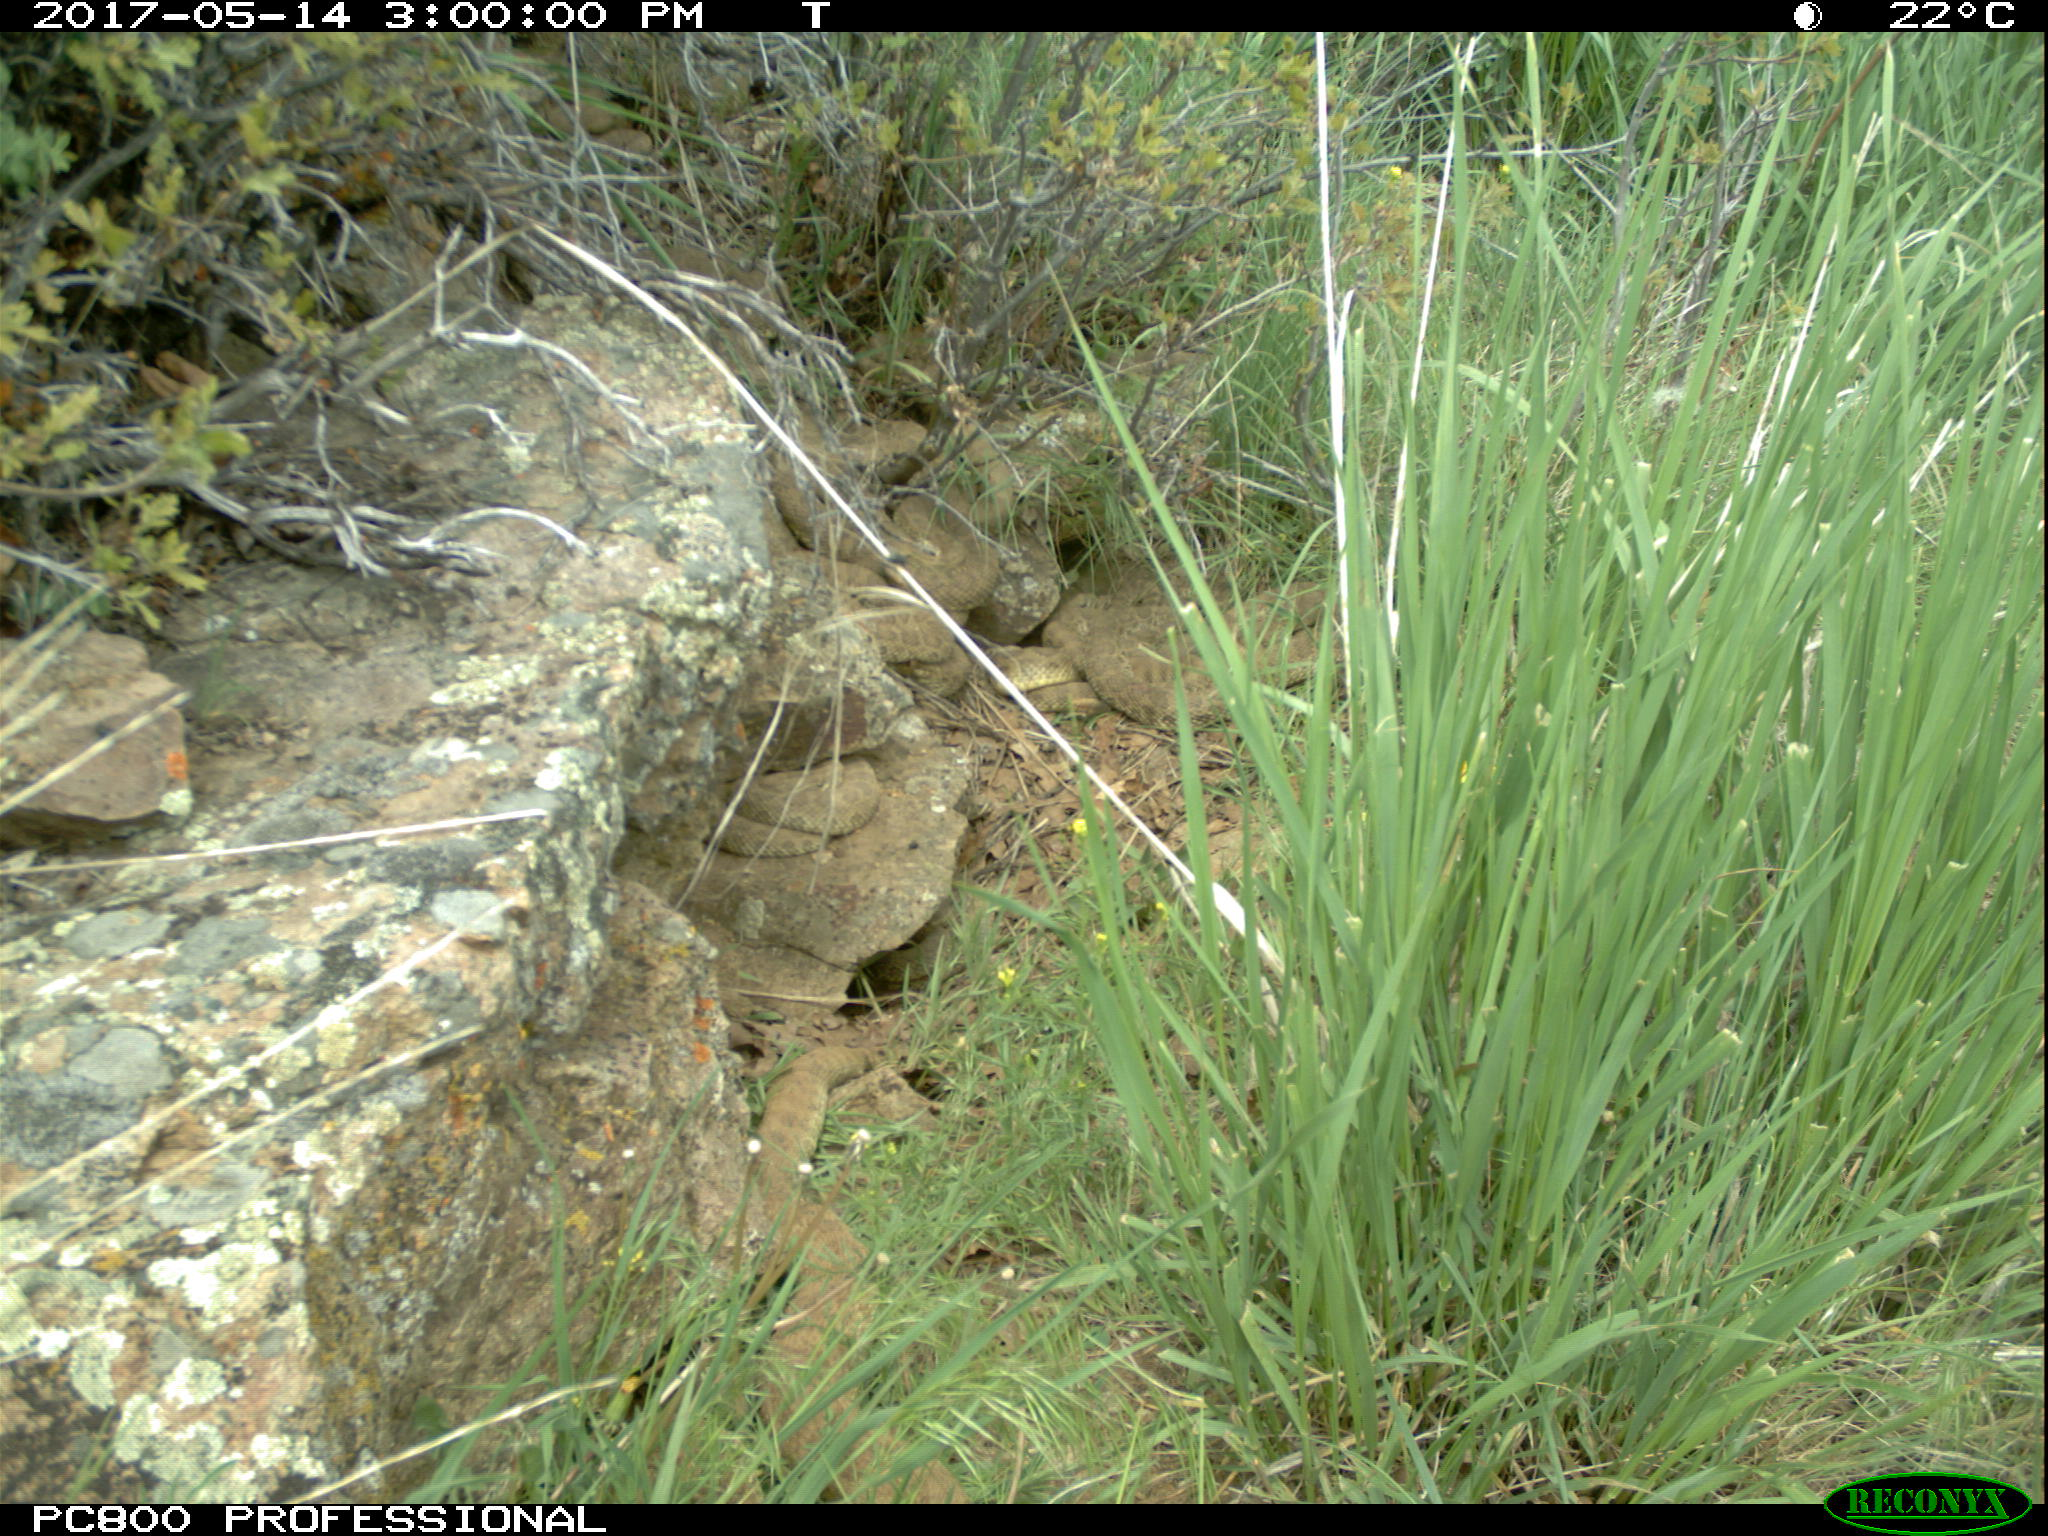snake: (739, 1039, 906, 1497), (1051, 600, 1306, 731), (706, 752, 880, 857), (885, 486, 1001, 611), (1201, 591, 1347, 687), (861, 607, 977, 697), (766, 471, 863, 561), (977, 637, 1080, 691), (876, 921, 953, 984)
